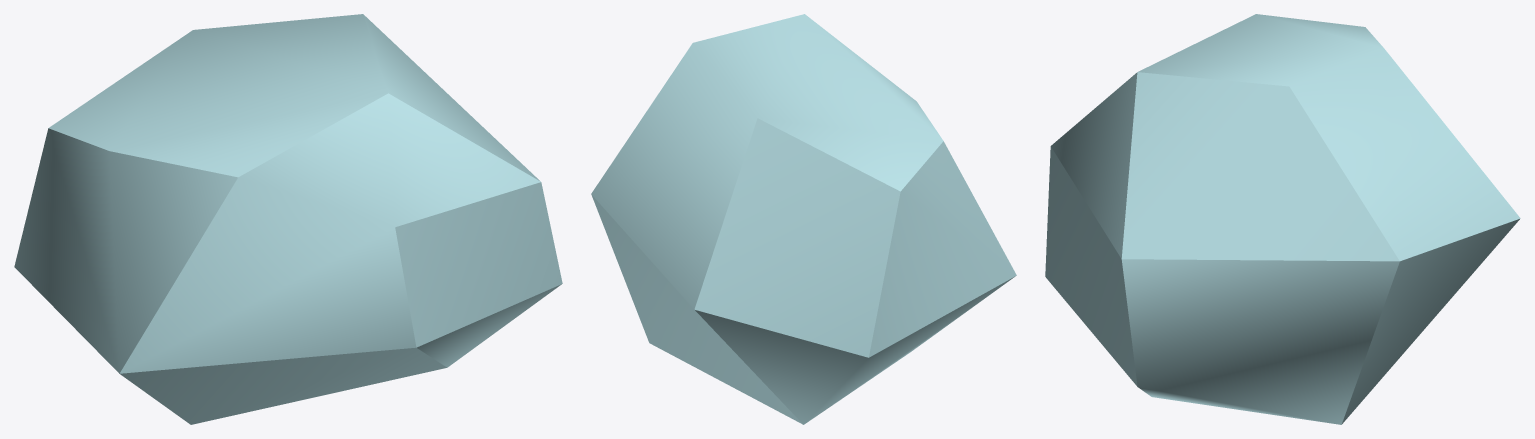
Rendered from stone.obj.
3 renders of one model, left to right at view 1: azimuth 30°, elevation 25°; view 2: azimuth 150°, elevation 25°; view 3: azimuth 270°, elevation 25°, orthographic. The views are drawn at different scales.
Parts seen in each view (by area): view 1: stone; view 2: stone; view 3: stone.
Part boxes in pixels (box(x1,y1,x2,y2)): stone: box(14, 14, 562, 424); stone: box(591, 14, 1016, 424); stone: box(1045, 14, 1520, 424).
Bounding box in the file's own units: 0.2824 × 0.2189 × 0.273.
